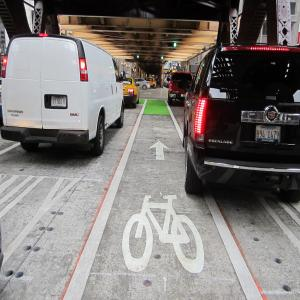Vehicle-registration-plate: (255, 124, 282, 144), (51, 98, 67, 108)
